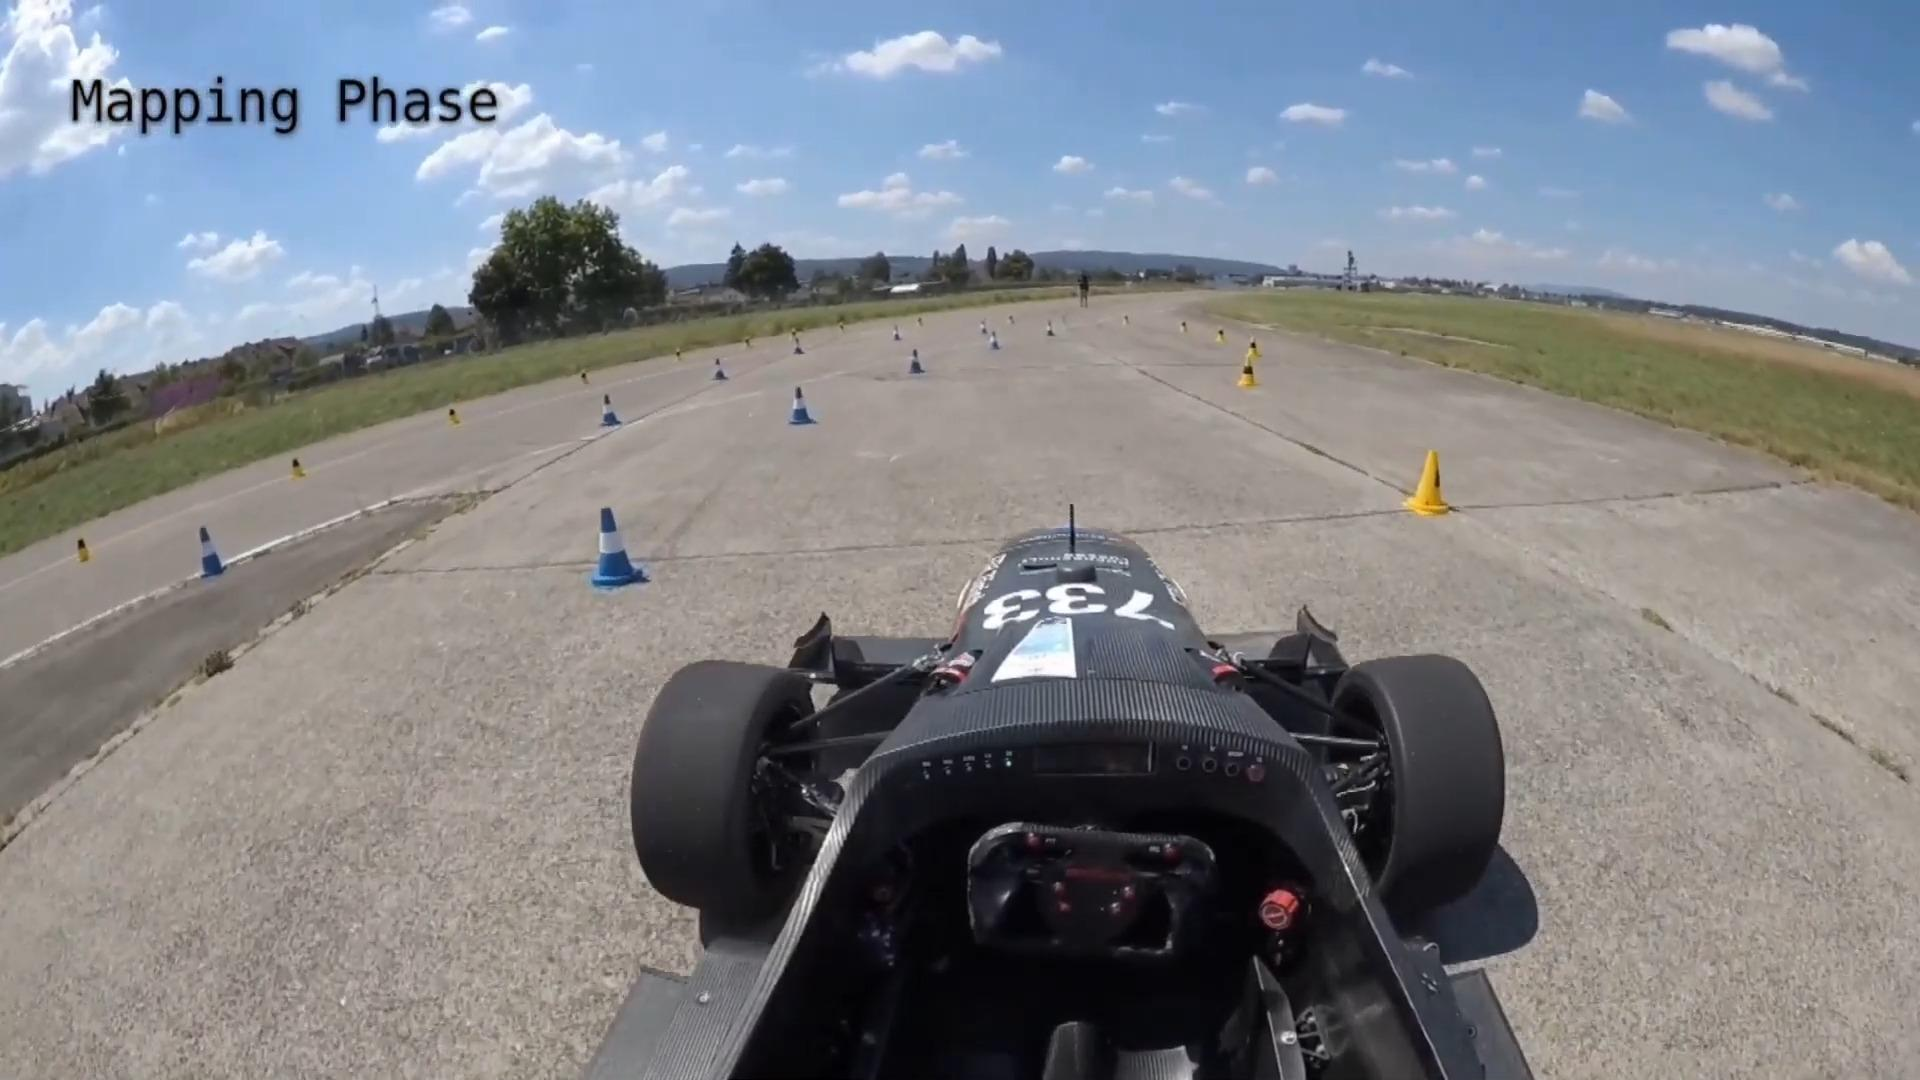blue_cone: (589, 505, 649, 592), (196, 522, 227, 580), (787, 385, 816, 425), (599, 392, 621, 427), (909, 349, 923, 373), (713, 357, 727, 380)
yellow_cone: (1403, 444, 1453, 517), (1236, 356, 1258, 386), (73, 533, 94, 562), (290, 452, 307, 479), (1245, 334, 1259, 359), (446, 405, 460, 426), (1217, 326, 1226, 343)
